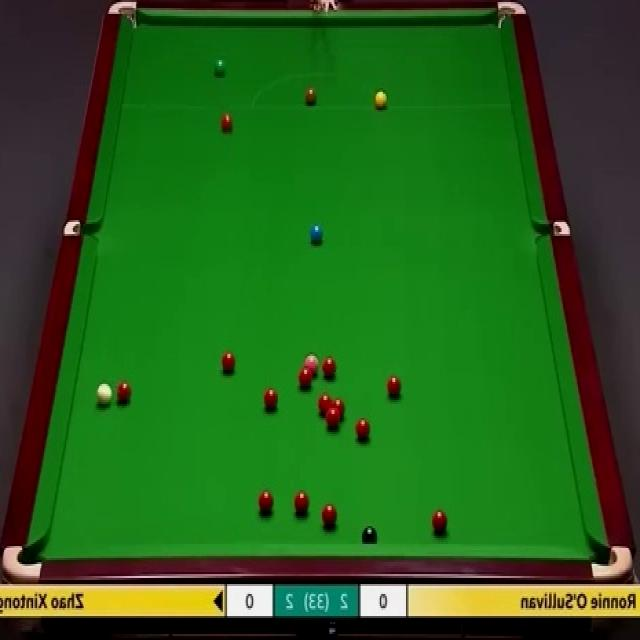black-ball: (362, 526, 378, 542)
blue-ball: (311, 223, 324, 244)
brown-ball: (304, 87, 318, 106)
green-ball: (214, 56, 225, 75)
pink-ball: (304, 353, 319, 377)
red-ball: (293, 491, 310, 517), (116, 380, 133, 406), (386, 373, 403, 398), (431, 508, 448, 533), (325, 406, 340, 434), (356, 416, 372, 442), (322, 502, 338, 528), (317, 392, 334, 416), (322, 356, 336, 381), (264, 386, 278, 410), (258, 491, 274, 512), (220, 111, 234, 134), (220, 352, 236, 372), (331, 398, 344, 421), (298, 369, 312, 388)
white-ball: (96, 382, 113, 408)
yellow-ball: (374, 90, 390, 110)
